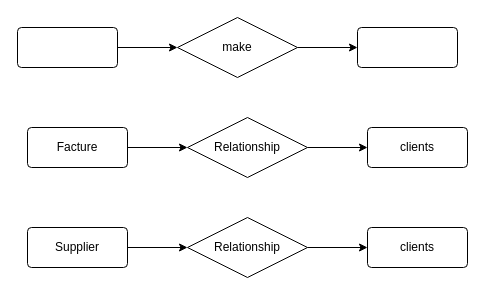
This 485x295 diagram has some shape labels left out. The box of each missing label's shape, as (x1, y1, x2, y2) in pixels:
Client: (16, 26, 118, 68)
Order: (356, 26, 458, 68)
